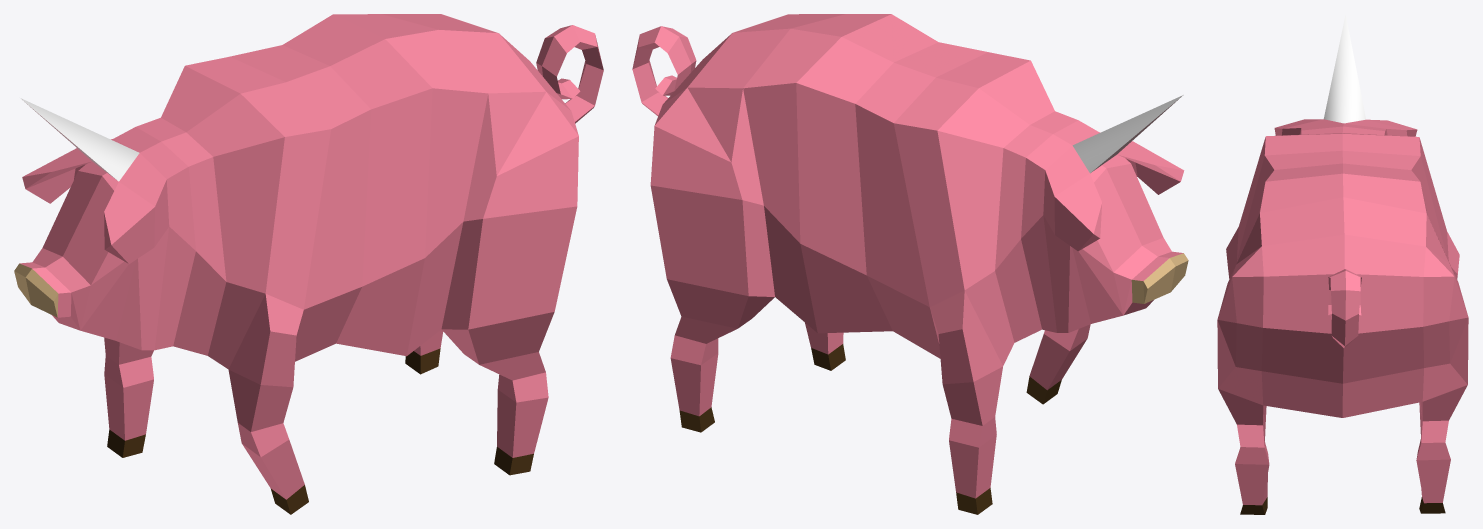
Rendered from pigWalking20.obj.
3 renders of one model, left to right at view 1: azimuth 30°, elevation 25°; view 2: azimuth 150°, elevation 25°; view 3: azimuth 270°, elevation 25°, orthographic. The views are drawn at different scales.
Parts seen in each view (by area): view 1: Pig_Cylinder; view 2: Pig_Cylinder; view 3: Pig_Cylinder.
Boxes of the visible parts, <box> form: Pig_Cylinder: <box>14,14,603,514</box>; Pig_Cylinder: <box>632,14,1188,514</box>; Pig_Cylinder: <box>1217,15,1468,514</box>.
Size of the model in its own units: 22.99 by 16.38 by 11.11.
